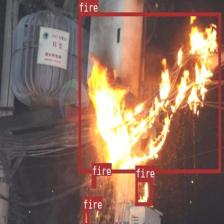fire: (78, 12, 220, 173), (135, 178, 151, 205), (81, 208, 88, 224), (91, 175, 96, 188)
